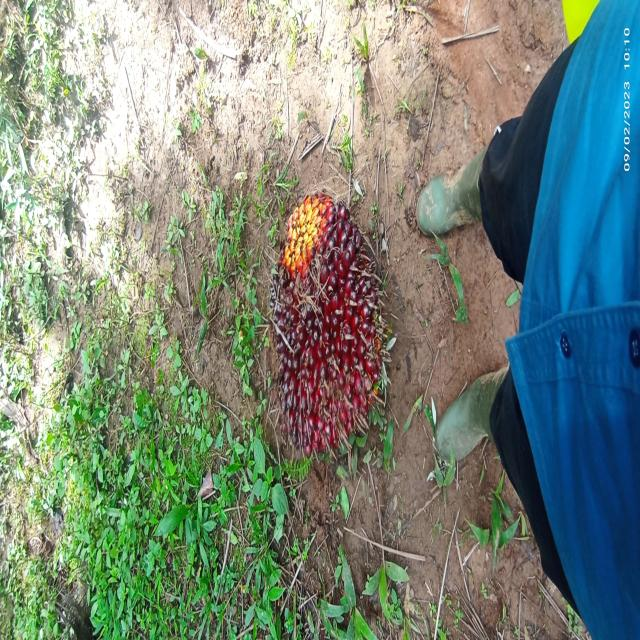fraksi 1: (237, 152, 408, 518)
